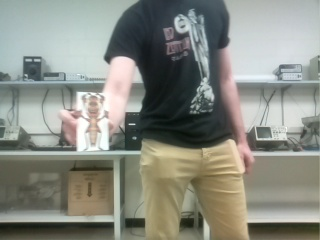Angry: (75, 92, 109, 152)
